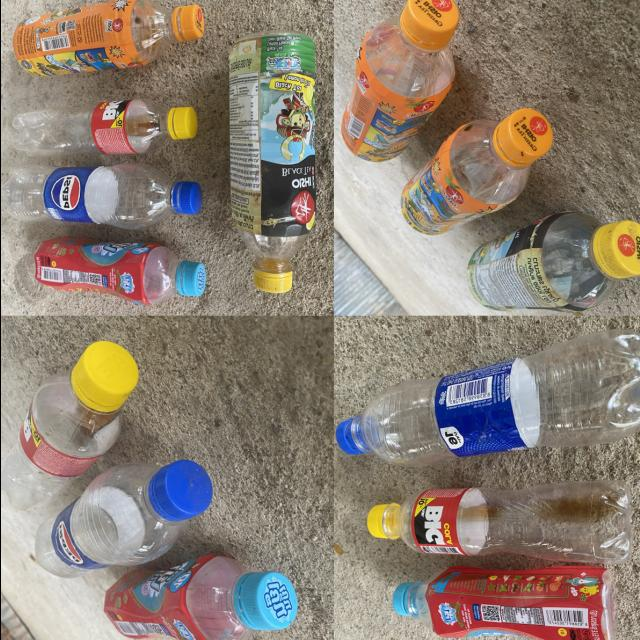plastik: (336, 330, 640, 466), (0, 341, 137, 510), (228, 31, 315, 293), (366, 481, 630, 564), (34, 461, 211, 579), (400, 109, 552, 235), (341, 0, 458, 161), (467, 212, 640, 312), (392, 565, 614, 640), (103, 555, 297, 640), (12, 0, 203, 75), (0, 164, 201, 228), (34, 237, 205, 305), (11, 98, 196, 156)
